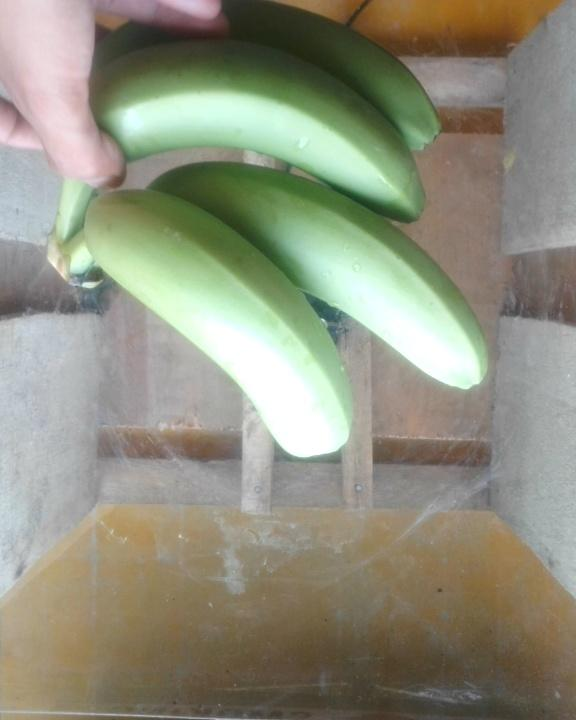SPOT: (42, 1, 504, 456)
